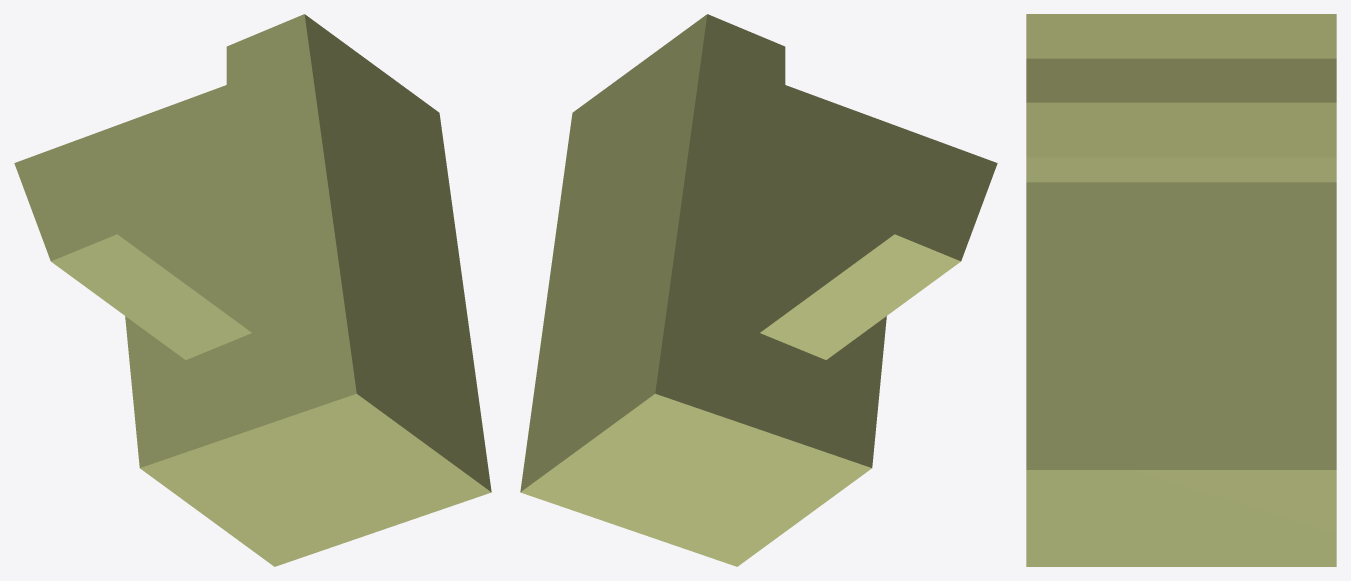
The picture shows the model from 3 angles, left to right: view 1: azimuth 30°, elevation 25°; view 2: azimuth 150°, elevation 25°; view 3: azimuth 270°, elevation 25°; orthographic projection. The views are drawn at different scales.
Visible parts, largest first — view 1: 0_1_1_3_3_1_3_0_1_2_2; view 2: 0_1_1_3_3_1_3_0_1_2_2; view 3: 0_1_1_3_3_1_3_0_1_2_2.
Boxes of the visible parts, box(x1,y1,x2,y2) form: 0_1_1_3_3_1_3_0_1_2_2: box(14, 14, 491, 566); 0_1_1_3_3_1_3_0_1_2_2: box(520, 14, 997, 566); 0_1_1_3_3_1_3_0_1_2_2: box(1026, 14, 1336, 566).
Size of the model in its own units: 8.79 by 10.16 by 6.
